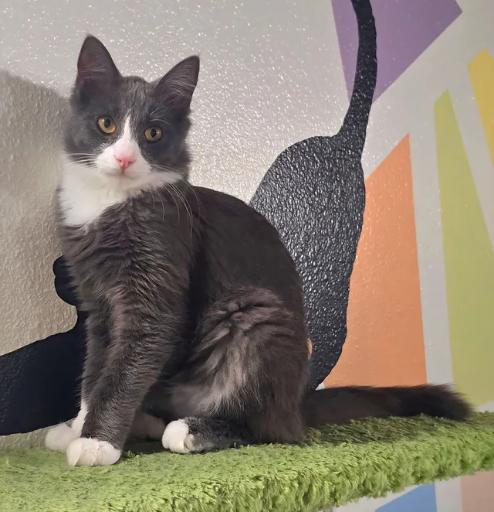cat_sitting: (45, 36, 471, 466)
